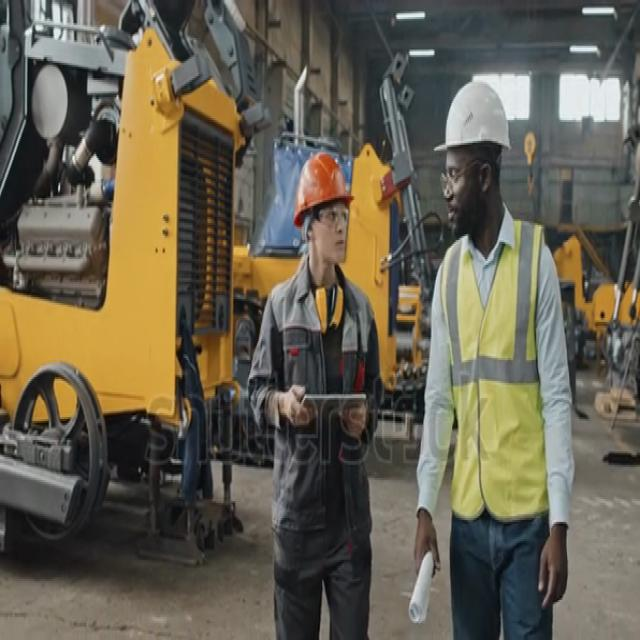Ear-Protection: (308, 279, 345, 338)
Glasses: (437, 158, 472, 197), (310, 204, 356, 233)
Helmet: (436, 78, 516, 153), (292, 146, 352, 209)
Vest: (440, 216, 552, 523)
